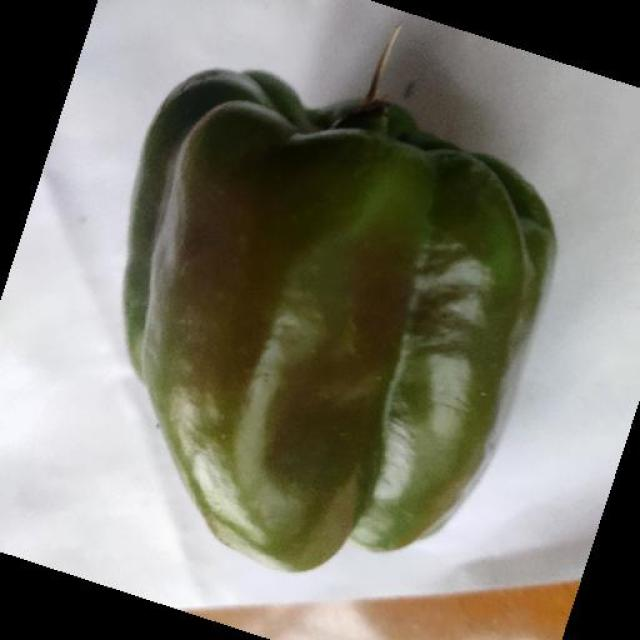Stale_Capsicum: (112, 74, 530, 546)
